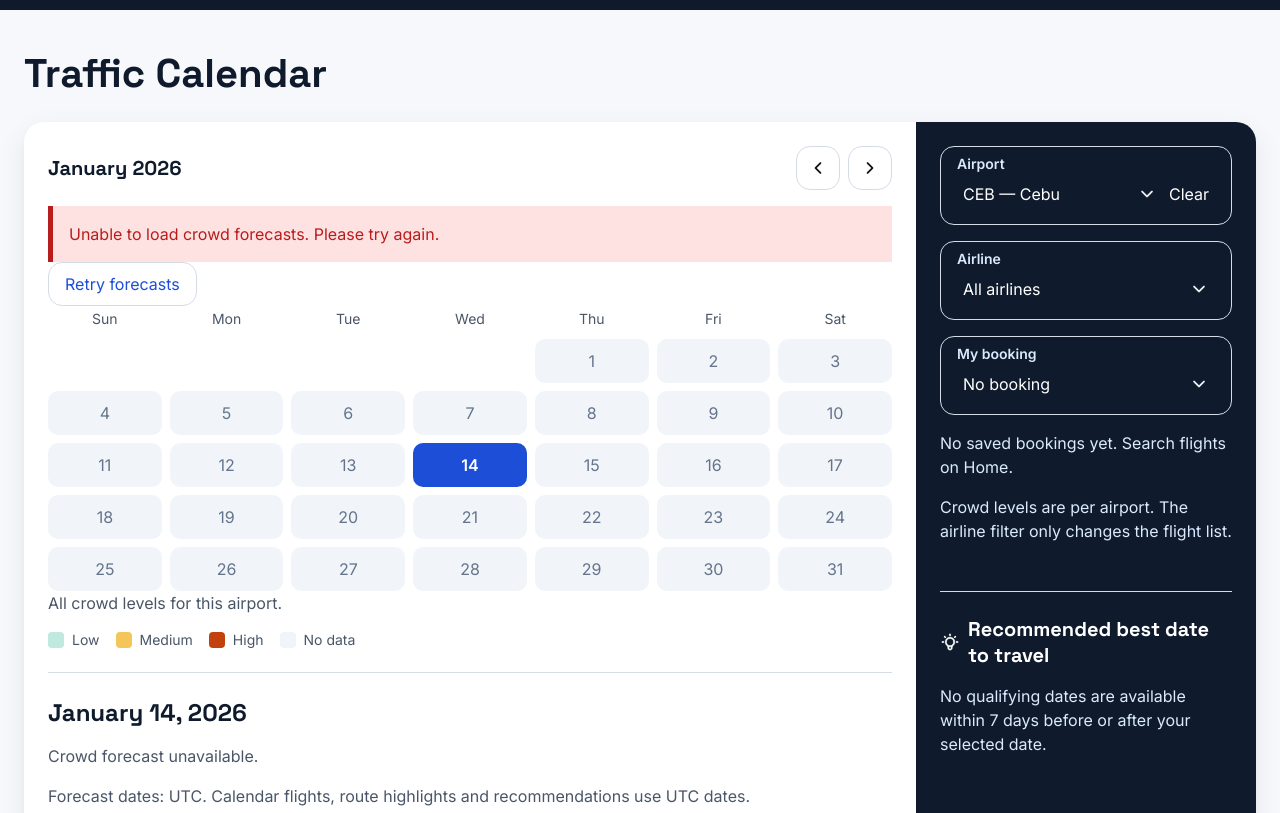
shows request errors distinctly from empty data and permits retry
Click the button with class "calendar-text-button": click(122, 284) [48,262,197,306]
(page scrolled)
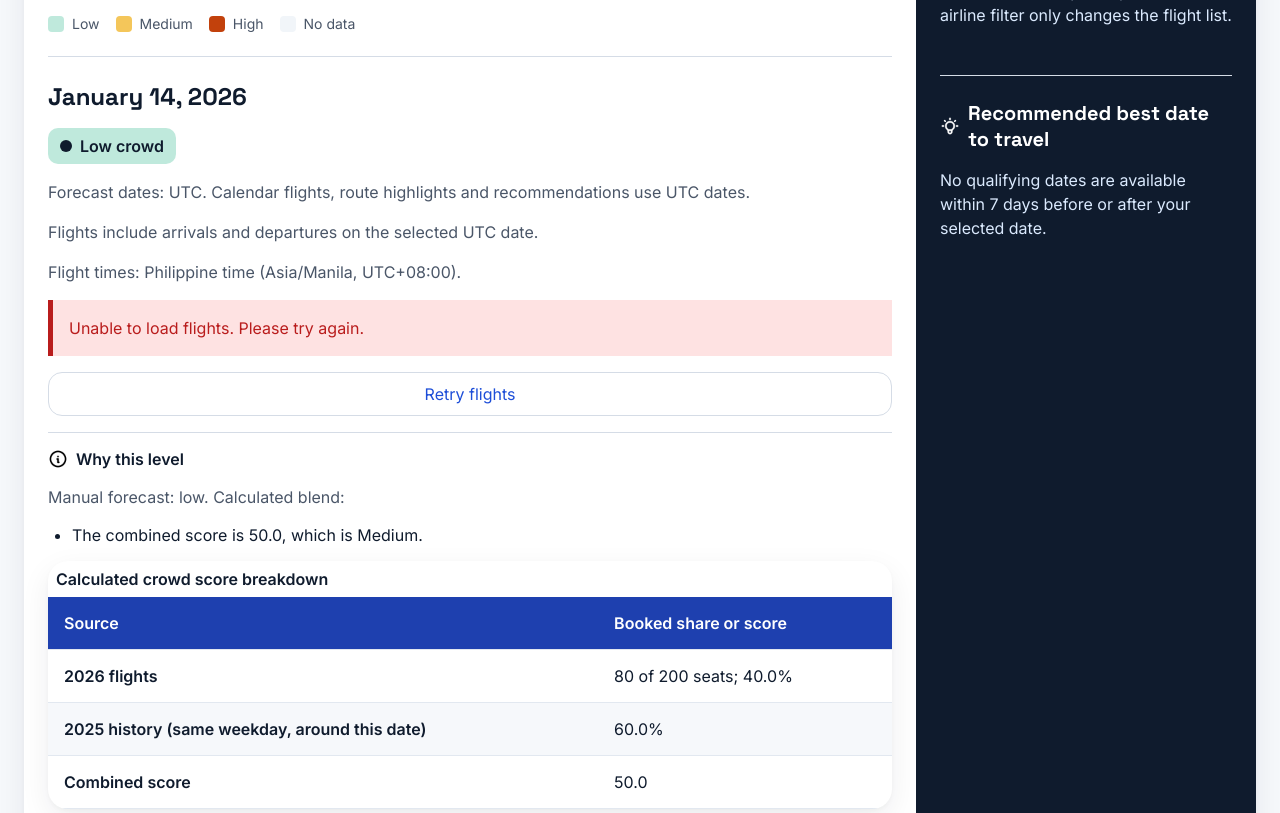
Click the button with class "calendar-text-button": click(470, 394) [48,372,892,416]
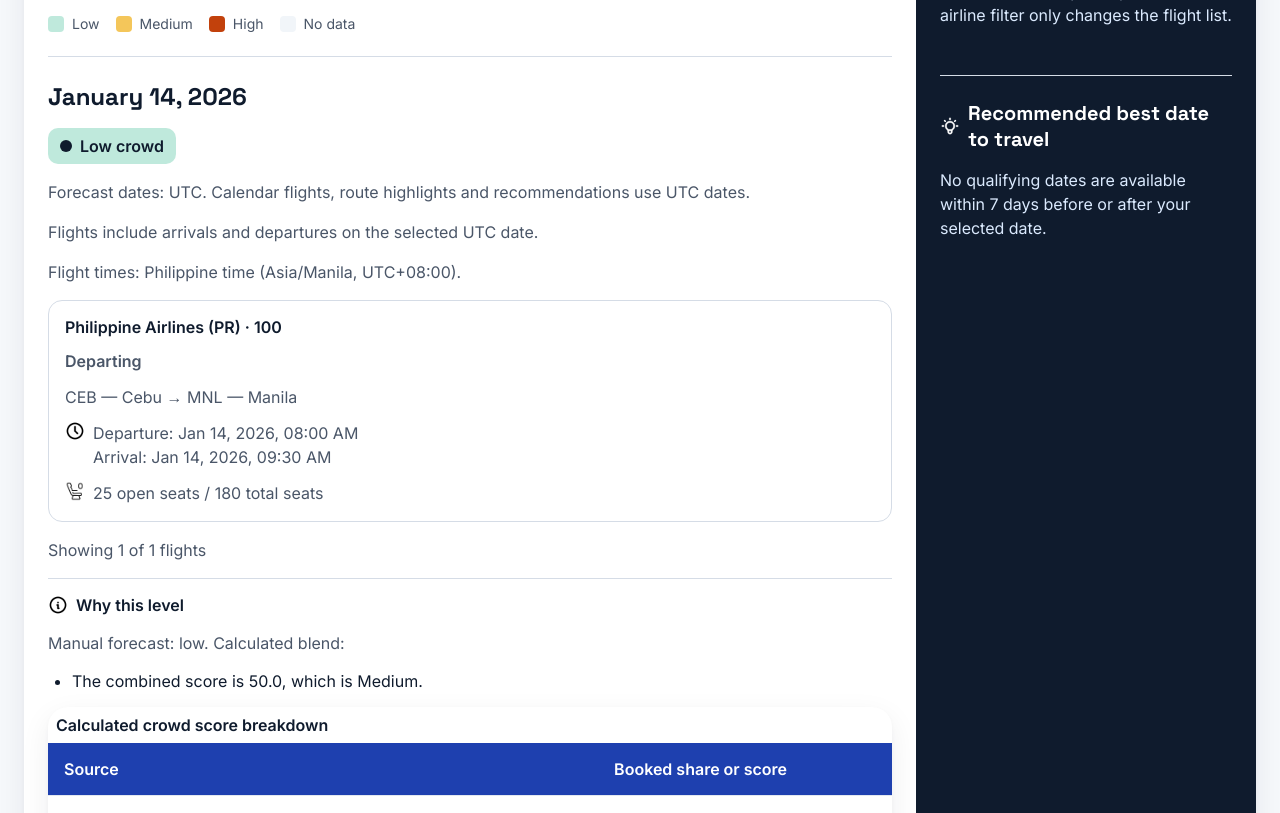
Check: no messages are shown
